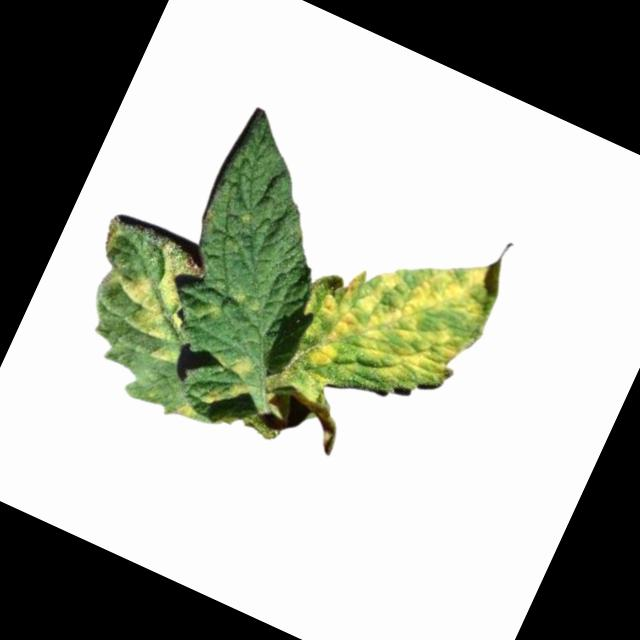Leaf_Mold: (272, 194, 515, 455), (100, 233, 222, 369), (208, 345, 258, 382), (225, 374, 256, 402), (171, 394, 201, 422), (198, 381, 224, 406)
